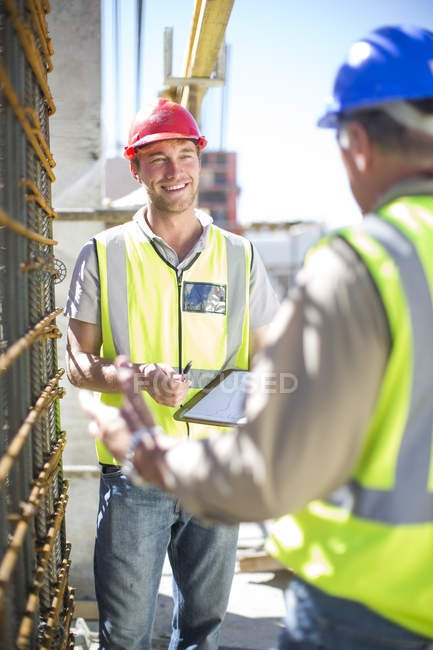blue: (329, 25, 433, 195)
red: (127, 95, 204, 214)
